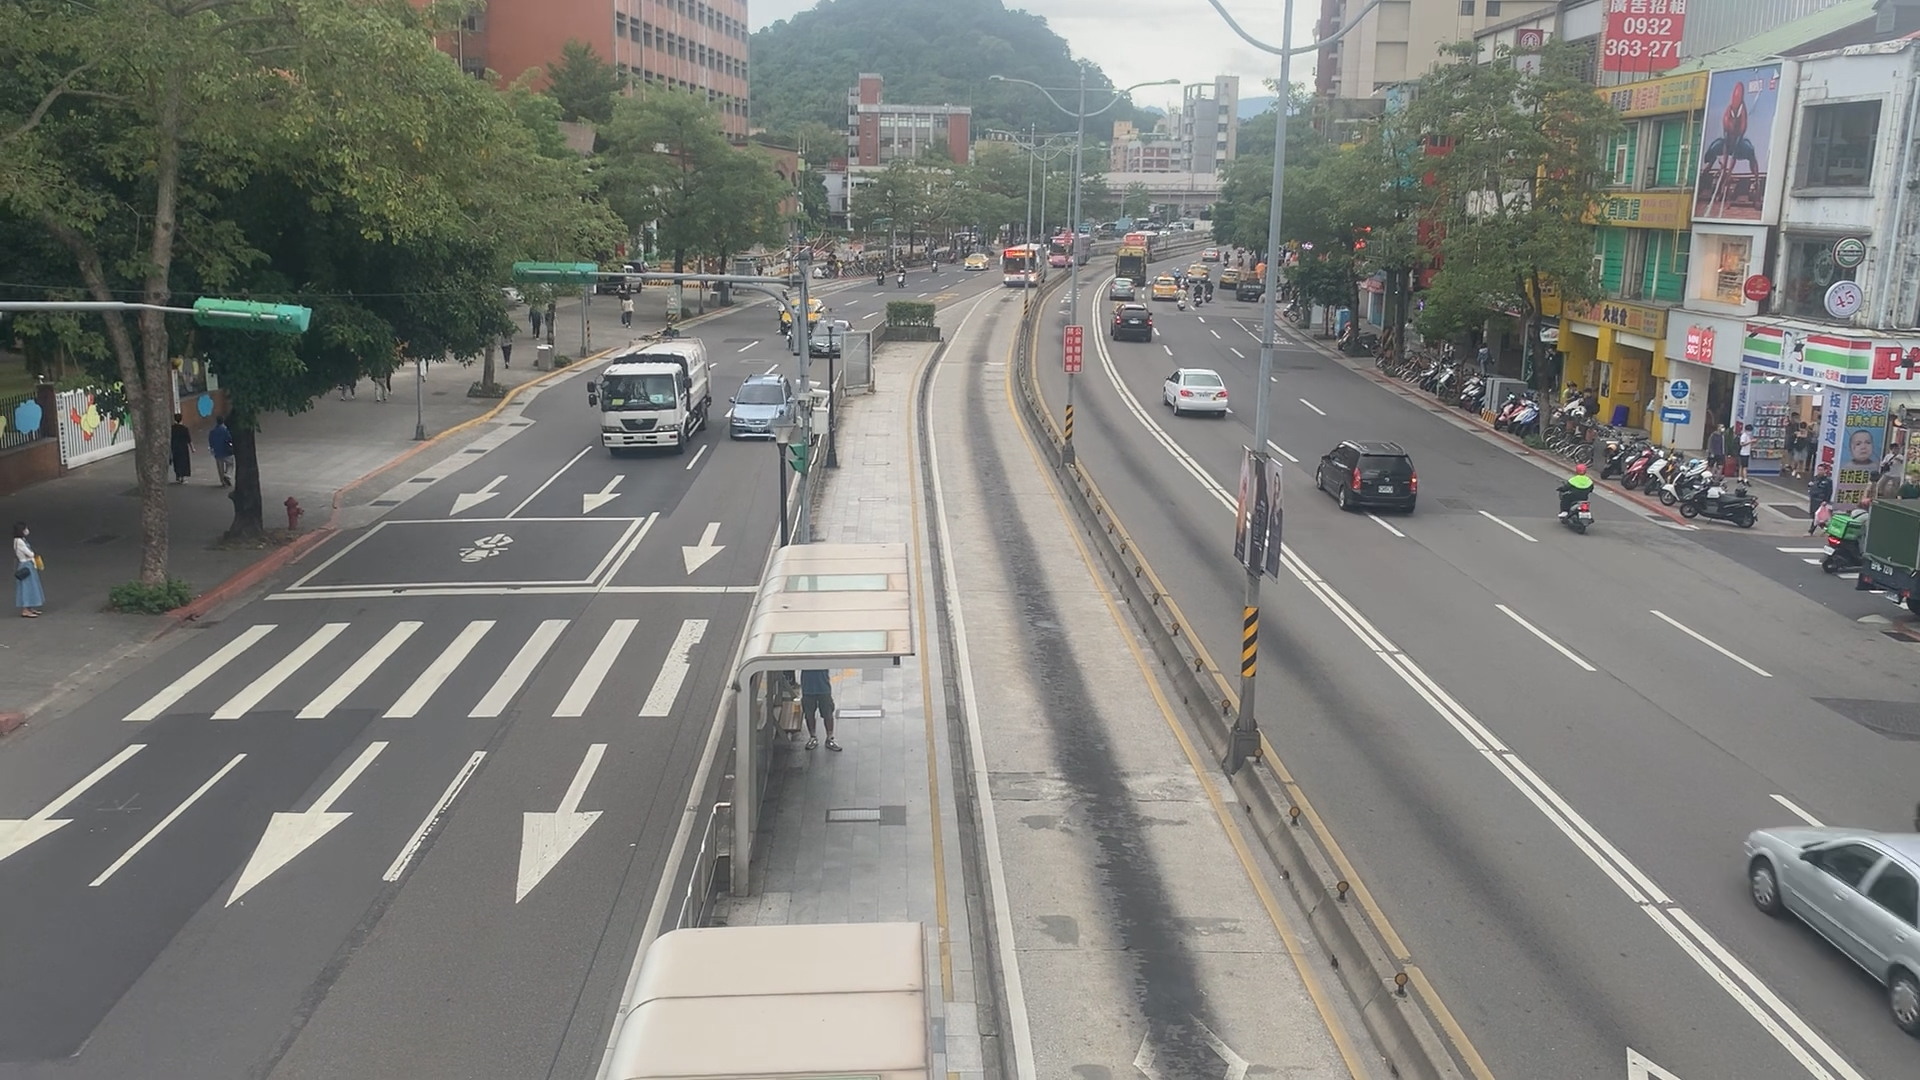Bus: (593, 344, 715, 451), (1036, 228, 1091, 268), (997, 241, 1040, 290)
Business Passenger Car: (781, 295, 822, 334), (1153, 273, 1178, 302), (963, 249, 986, 274)
Motorcycle: (1557, 469, 1598, 531), (1189, 278, 1207, 313), (1203, 273, 1220, 305)
Private Passenger Car: (1735, 814, 1920, 1027), (1320, 434, 1423, 522), (735, 371, 791, 442), (1160, 367, 1232, 414), (811, 313, 855, 360), (1109, 303, 1153, 340), (1105, 272, 1134, 302)
